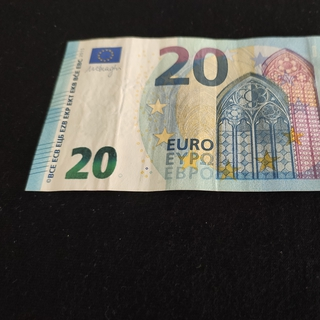20EUROFront: (23, 33, 320, 192)
